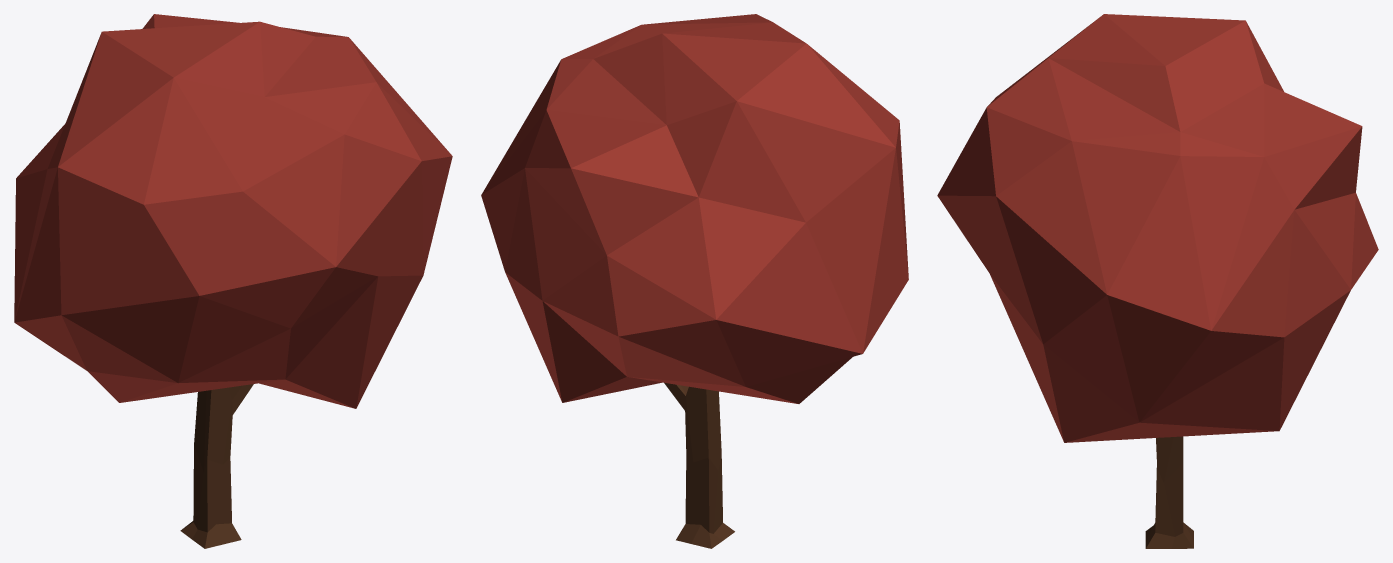
The model's file is Tree_13_Red.fbx.
The picture shows the model from 3 angles, left to right: view 1: azimuth 30°, elevation 25°; view 2: azimuth 150°, elevation 25°; view 3: azimuth 270°, elevation 25°; orthographic projection. The views are drawn at different scales.
Parts seen in each view (by area): view 1: Tree_13_Red_Part_1, Tree_13_Red_Part_2; view 2: Tree_13_Red_Part_1, Tree_13_Red_Part_2; view 3: Tree_13_Red_Part_1, Tree_13_Red_Part_2.
Part boxes in pixels (x1,y1,x2,y2): Tree_13_Red_Part_1: (14, 14, 452, 408); Tree_13_Red_Part_2: (180, 384, 253, 548); Tree_13_Red_Part_1: (481, 14, 908, 403); Tree_13_Red_Part_2: (664, 382, 734, 548); Tree_13_Red_Part_1: (937, 14, 1378, 442); Tree_13_Red_Part_2: (1145, 436, 1193, 548).
Bounding box in the file's own units: 643 × 796 × 641.
